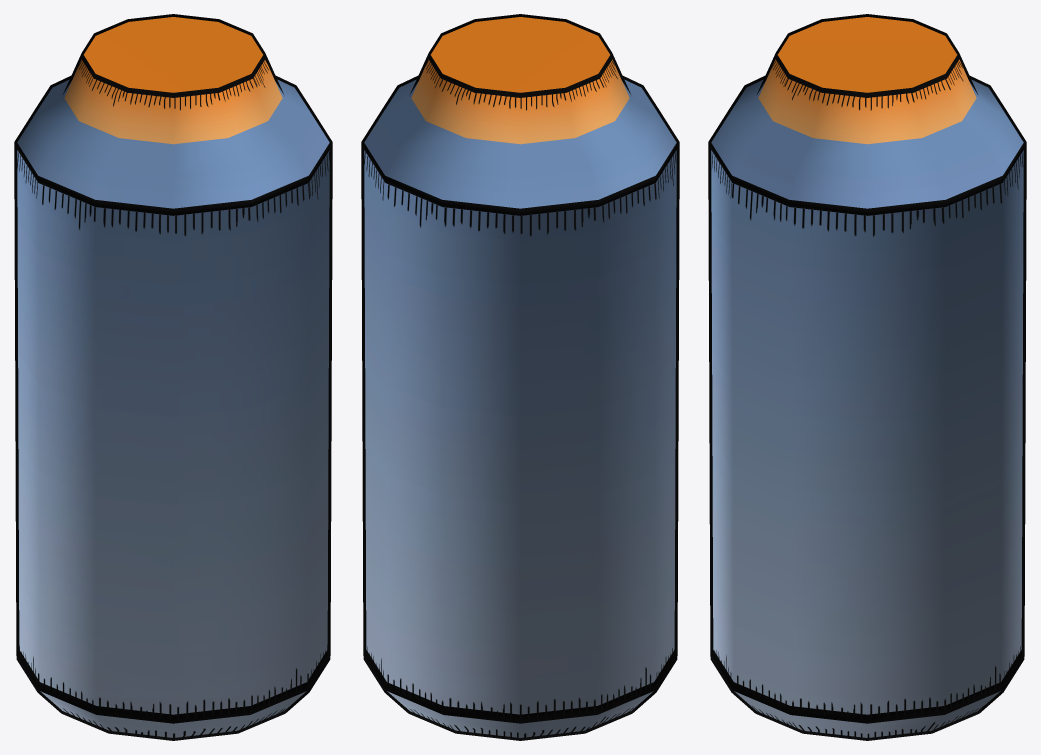
File: sci-fi-battery-capsule01.glb
3 renders of one model, left to right at view 1: azimuth 30°, elevation 25°; view 2: azimuth 150°, elevation 25°; view 3: azimuth 270°, elevation 25°, orthographic.
Visible parts, largest first — view 1: SciFi_Battery_Capsule01; view 2: SciFi_Battery_Capsule01; view 3: SciFi_Battery_Capsule01.
Part boxes in pixels (bbox=[...]): SciFi_Battery_Capsule01: bbox=[14, 14, 332, 740]; SciFi_Battery_Capsule01: bbox=[361, 14, 679, 740]; SciFi_Battery_Capsule01: bbox=[708, 14, 1026, 740].
Bounding box in the file's own units: 0.4332 × 0.9524 × 0.4332.
3 materials, 2 textured.
